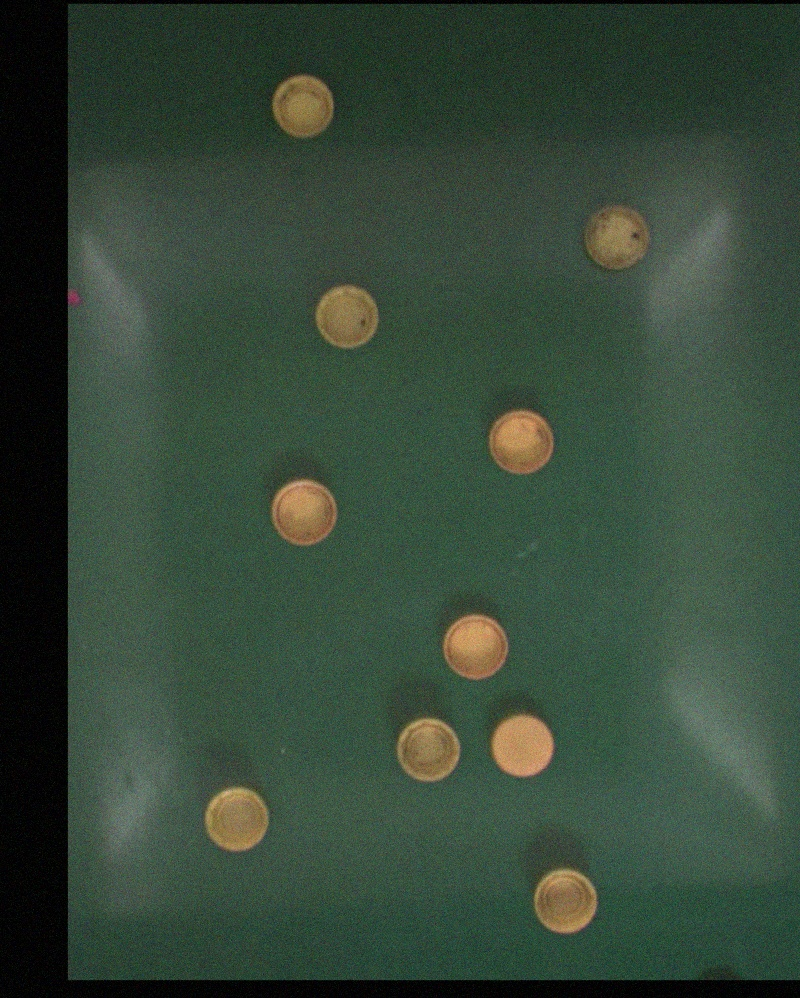Others: (204, 785, 270, 852), (442, 613, 508, 680), (584, 204, 651, 270), (271, 479, 337, 545), (533, 868, 599, 933), (314, 284, 380, 349), (489, 409, 555, 473), (271, 74, 335, 140), (396, 717, 461, 781), (489, 715, 555, 778)
